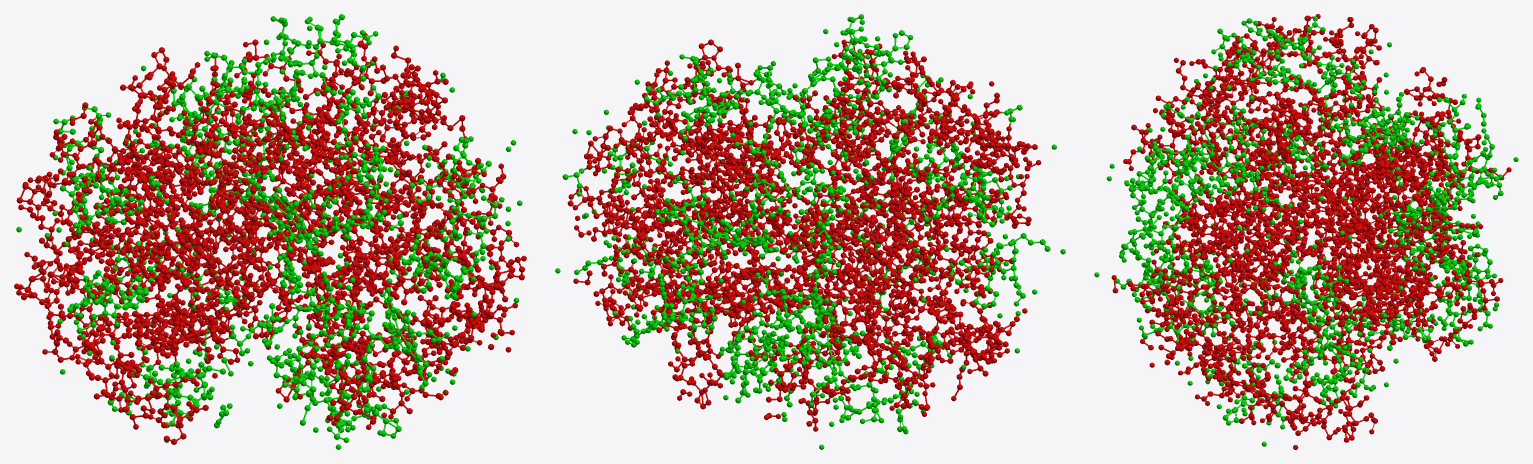
Rendered from 4hhb__ball_and_stick__secondary-structure.glb.
3 renders of one model, left to right at view 1: azimuth 30°, elevation 25°; view 2: azimuth 150°, elevation 25°; view 3: azimuth 270°, elevation 25°, orthographic. The views are drawn at different scales.
Visible parts, largest first — view 1: Renderer Node; view 2: Renderer Node; view 3: Renderer Node.
Part boxes in pixels (<box>): Renderer Node: <box>14,14,526,449</box>; Renderer Node: <box>555,14,1065,449</box>; Renderer Node: <box>1094,14,1518,449</box>.
Size of the model in its own units: 71.05 by 57.91 by 61.55.
